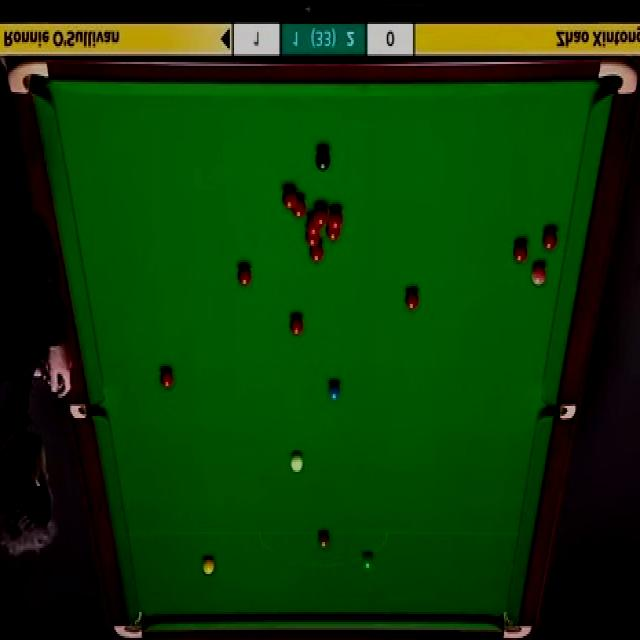black-ball: (314, 150, 331, 172)
blue-ball: (327, 380, 342, 402)
brown-ball: (316, 530, 329, 550)
green-ball: (362, 552, 373, 573)
pink-ball: (530, 263, 548, 286)
red-ball: (541, 229, 558, 252), (513, 240, 528, 266), (283, 186, 298, 212), (289, 314, 304, 338), (236, 266, 252, 288), (291, 196, 306, 219), (329, 207, 343, 231), (404, 290, 419, 312), (314, 204, 328, 227), (309, 242, 323, 264), (159, 367, 173, 388), (304, 229, 320, 247), (307, 215, 320, 235), (326, 227, 342, 243)
white-ball: (289, 452, 304, 473)
yellow-ball: (202, 554, 214, 575)
